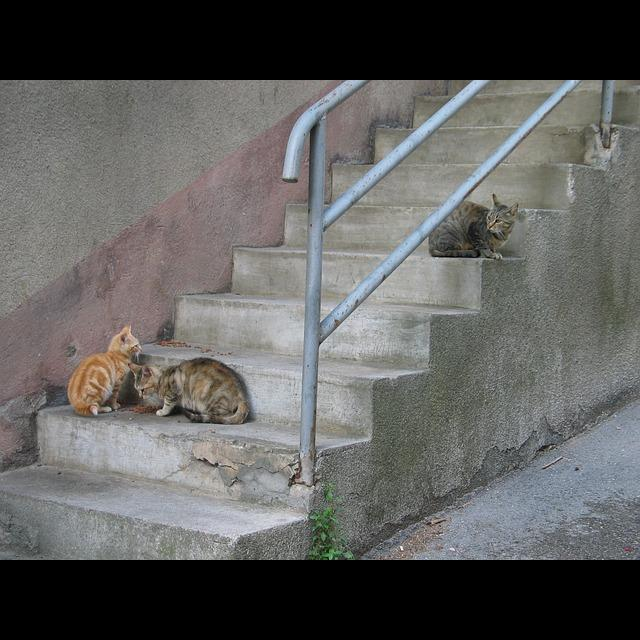animals: (127, 354, 255, 427), (62, 321, 147, 421), (430, 192, 523, 261)
